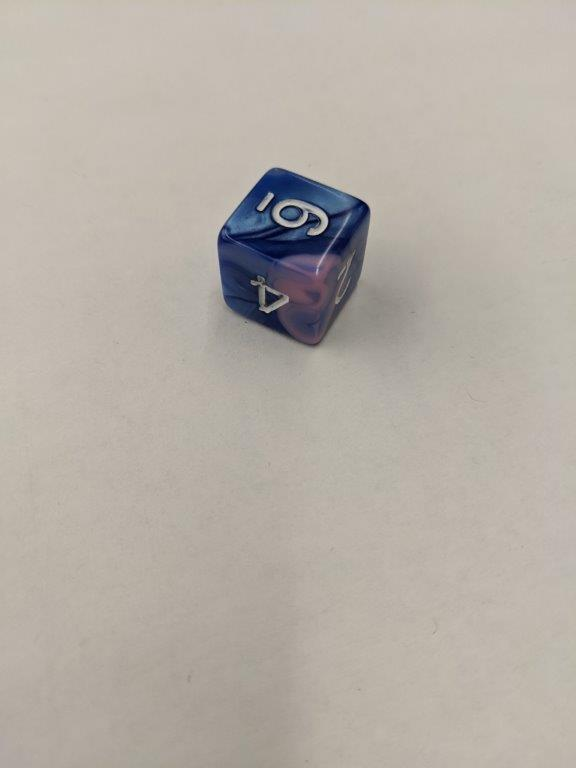d6-6: (217, 164, 374, 345)
